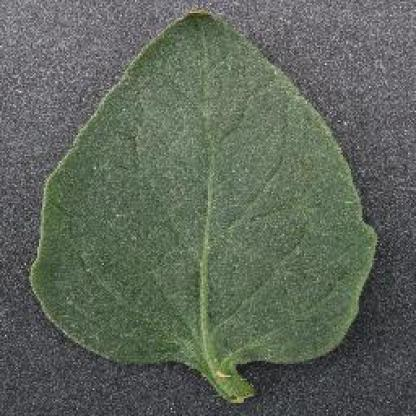bad leaf: (41, 17, 368, 397)
